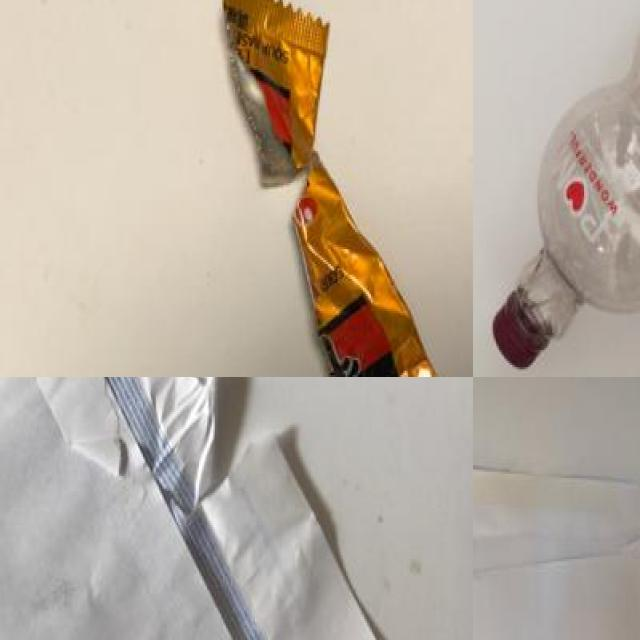paper: (0, 377, 465, 640), (473, 460, 640, 640)
plastic: (499, 0, 640, 377)
trash: (175, 0, 473, 377)
